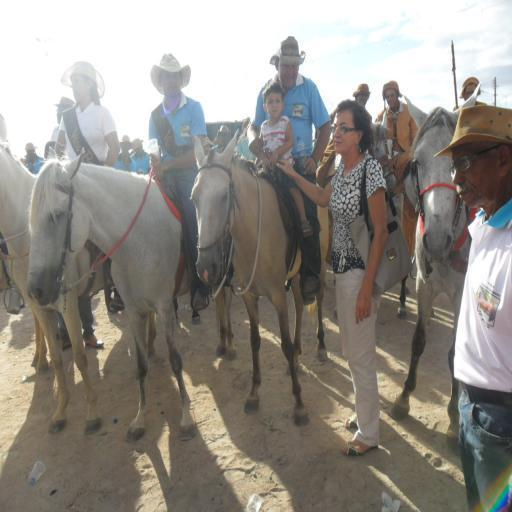horse: (24, 148, 235, 448), (186, 128, 331, 430), (384, 80, 482, 458), (0, 116, 114, 440), (311, 111, 400, 322)
